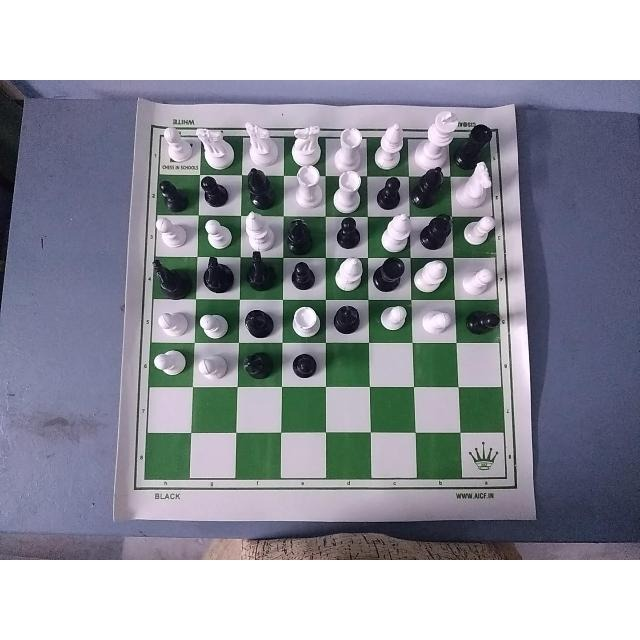black-bishop: (415, 166, 453, 209), (239, 343, 277, 385), (241, 295, 277, 339), (327, 301, 366, 341), (241, 167, 279, 207), (286, 215, 322, 255), (420, 211, 456, 248)
black-knight: (145, 255, 192, 297), (197, 254, 236, 294), (244, 252, 276, 292)
black-pawn: (465, 305, 499, 343), (374, 174, 410, 209), (289, 346, 321, 382), (155, 176, 190, 208), (199, 172, 231, 203), (287, 260, 319, 291), (336, 216, 364, 248)
black-rook: (370, 253, 407, 295), (468, 116, 496, 158)
white-bishop: (325, 253, 367, 295), (376, 118, 406, 170), (374, 211, 413, 248), (414, 253, 449, 293), (243, 211, 277, 249)
white-king: (411, 105, 465, 162)
white-knight: (459, 158, 497, 213), (202, 116, 238, 170), (243, 112, 282, 161), (287, 117, 321, 165)
white-pawn: (460, 255, 500, 297), (142, 343, 186, 381), (463, 211, 503, 251), (373, 300, 412, 340), (149, 212, 193, 247), (159, 121, 194, 163), (419, 302, 452, 344), (197, 302, 233, 338), (145, 303, 184, 335), (198, 219, 234, 251), (193, 349, 229, 381)
white-rook: (288, 165, 327, 209), (330, 172, 366, 212), (330, 125, 364, 166), (290, 301, 322, 340)
